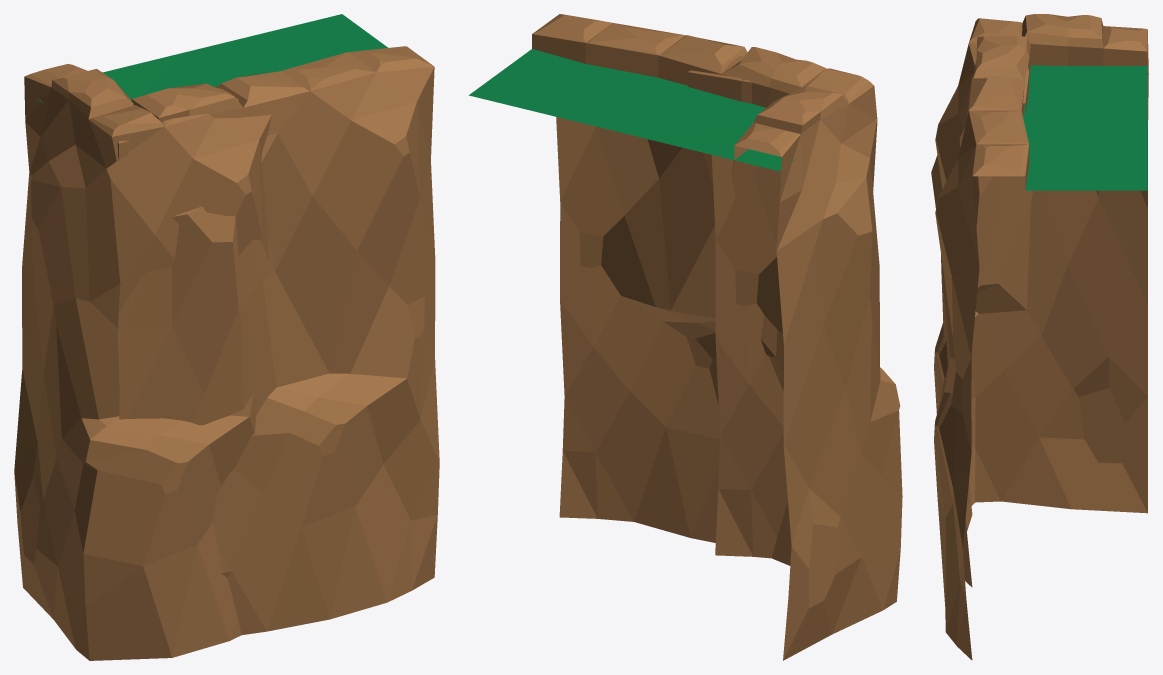
Rendered from Map Tiles.glb.
3 views of the same model, side by side, from view 1: azimuth 30°, elevation 25°; view 2: azimuth 150°, elevation 25°; view 3: azimuth 270°, elevation 25° (orthographic). The views are drawn at different scales.
Parts seen in each view (by area): view 1: Wall Straight, Wall Corner Out, Wall Corner In; view 2: Wall Corner Out, Wall Straight, Wall Corner In; view 3: Wall Corner Out, Wall Straight, Wall Corner In.
Part boxes in pixels (bbox=[...]): Wall Straight: bbox=[118, 14, 439, 634]; Wall Corner Out: bbox=[14, 52, 271, 660]; Wall Corner In: bbox=[38, 52, 183, 158]; Wall Corner Out: bbox=[624, 56, 902, 660]; Wall Straight: bbox=[468, 14, 826, 565]; Wall Corner In: bbox=[625, 126, 795, 171]; Wall Corner Out: bbox=[934, 14, 1148, 587]; Wall Straight: bbox=[931, 35, 1147, 660]; Wall Corner In: bbox=[1055, 65, 1147, 117].
Size of the model in its own units: 22.61 by 32.3 by 12.59.
Materials: 1 (1 with a texture image).
